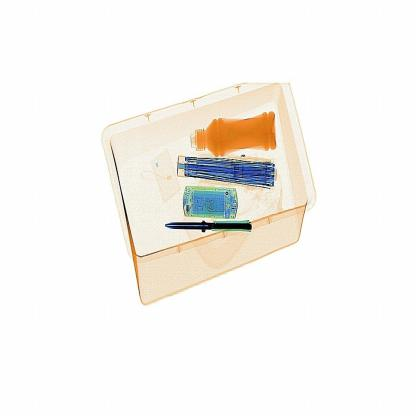gun: (155, 212, 265, 247)
